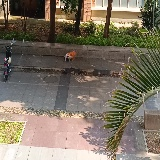fire: (67, 50, 76, 58)
